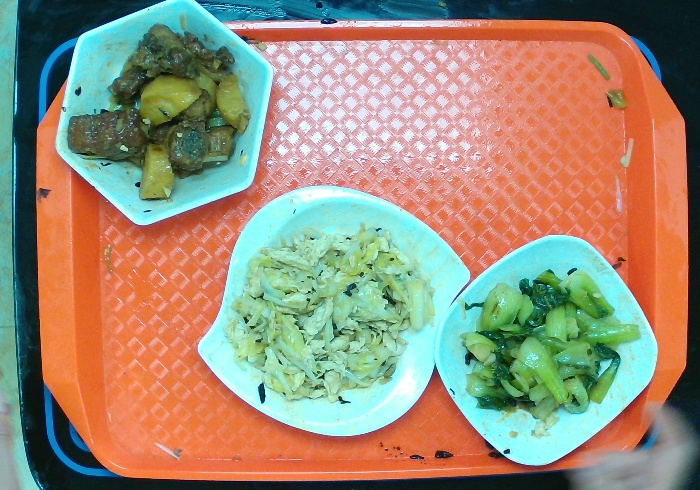RJxy-Liu_Jiao_Wan: (55, 1, 278, 230)
RJxy-Shuang_Jiao_Pan: (192, 180, 472, 441)
RJxy-Si_Fang_Wan: (428, 226, 661, 471)
